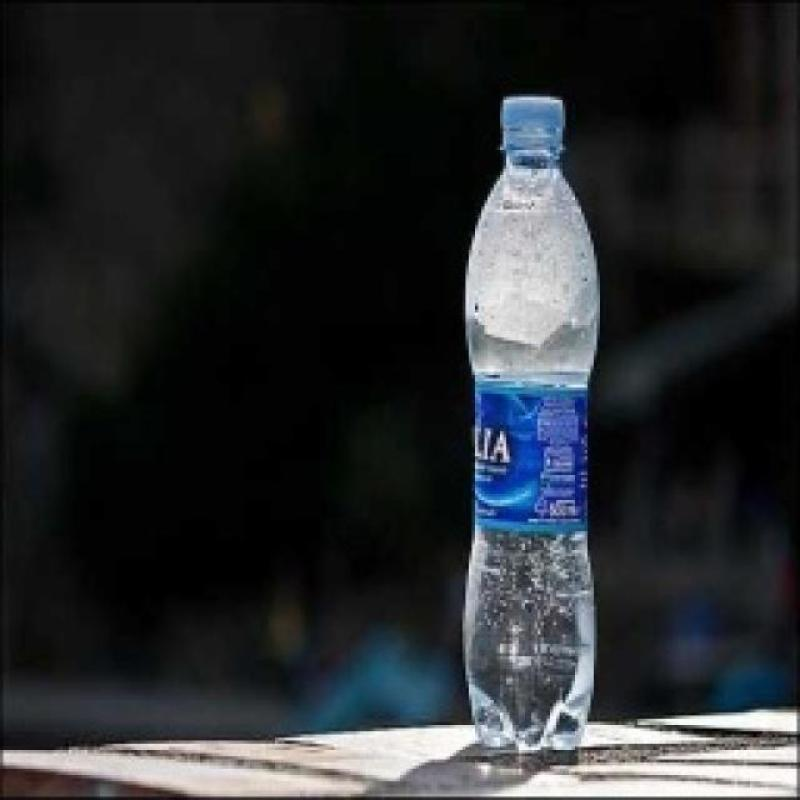botella: (460, 95, 600, 757)
